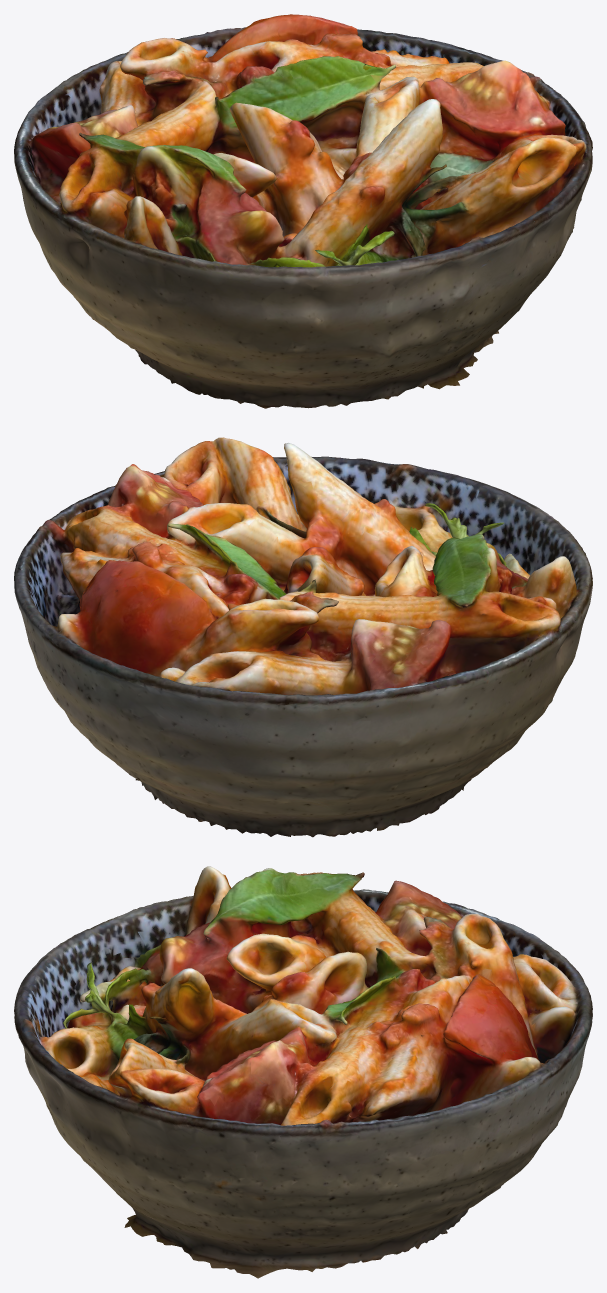
Rendered from pljukanci-tartufi.glb.
The picture shows the model from 3 angles, top to bottom: view 1: azimuth 30°, elevation 25°; view 2: azimuth 150°, elevation 25°; view 3: azimuth 270°, elevation 25°; orthographic projection.
Parts seen in each view (by area): view 1: pljukanci-tartufi; view 2: pljukanci-tartufi; view 3: pljukanci-tartufi.
Part boxes in pixels (x1=…): pljukanci-tartufi: x1=14, y1=14, x2=592, y2=408; pljukanci-tartufi: x1=14, y1=437, x2=592, y2=837; pljukanci-tartufi: x1=14, y1=866, x2=592, y2=1278.
Size of the model in its own units: 0.2098 by 0.1052 by 0.21.
1 material, 1 textured.
